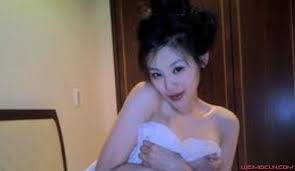people: (97, 12, 237, 171)
